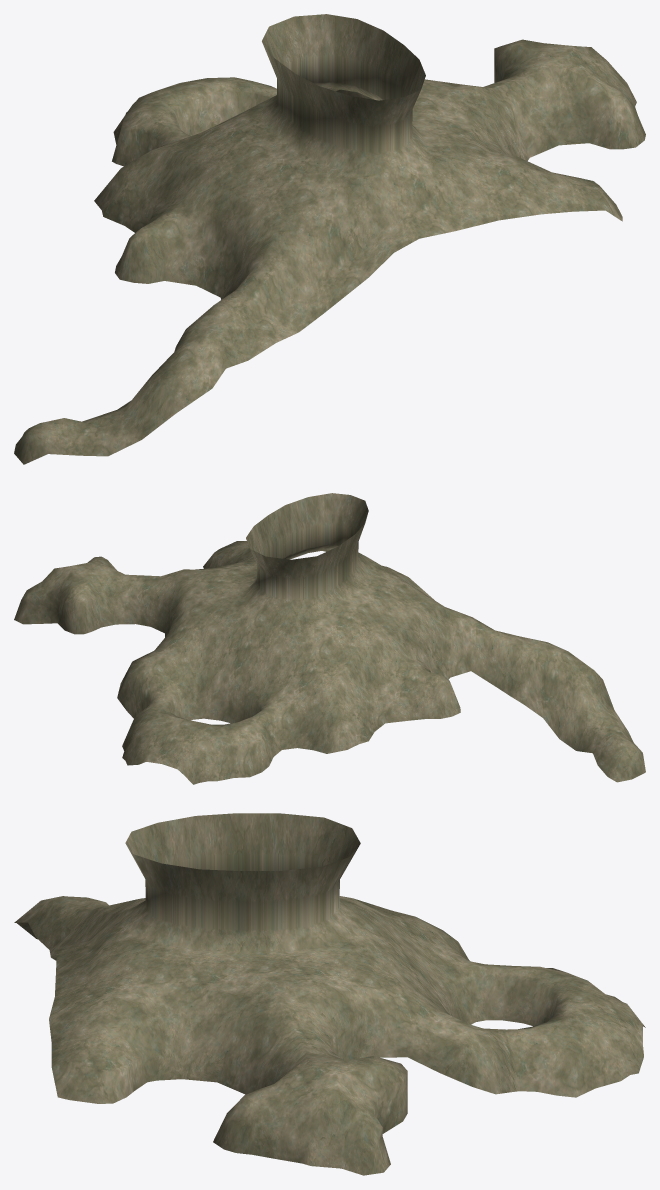
Rendered from EKH_THRONE_PS_TH_CEILING_01.fbx.
3 views of the same model, one above another, from view 1: azimuth 30°, elevation 25°; view 2: azimuth 150°, elevation 25°; view 3: azimuth 270°, elevation 25° (orthographic). The views are drawn at different scales.
Visible parts, largest first — view 1: EKH_THRONE_PS_TH_CEILING_01; view 2: EKH_THRONE_PS_TH_CEILING_01; view 3: EKH_THRONE_PS_TH_CEILING_01.
Part boxes in pixels (x1=…): EKH_THRONE_PS_TH_CEILING_01: x1=14, y1=14, x2=645, y2=464; EKH_THRONE_PS_TH_CEILING_01: x1=14, y1=493, x2=645, y2=784; EKH_THRONE_PS_TH_CEILING_01: x1=14, y1=813, x2=645, y2=1175.
Bounding box in the file's own units: 416743 × 153064 × 302125.
1 material, 1 textured.
